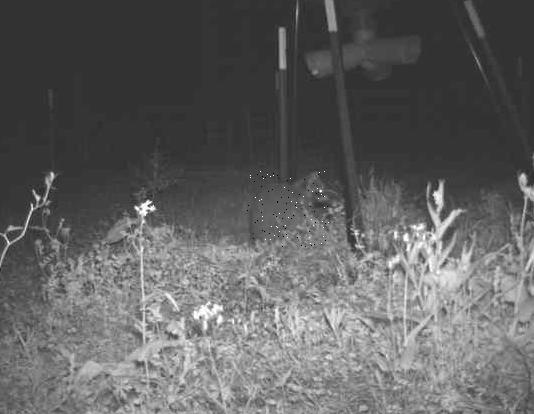Raccoon: (247, 170, 329, 248)
